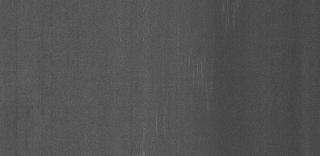silk spot: (179, 44, 219, 104)
